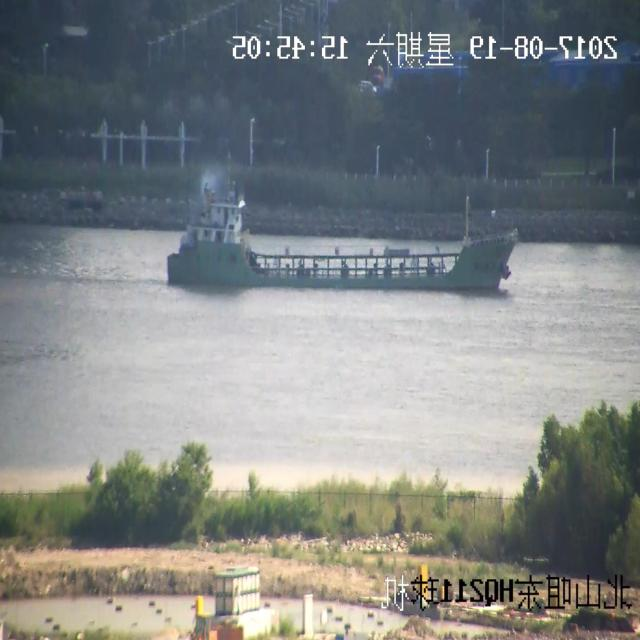houseboat: (159, 164, 530, 309)
